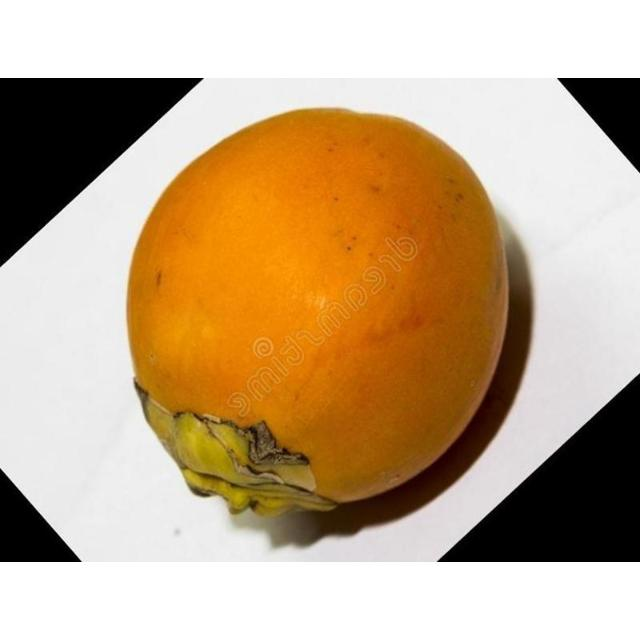good: (125, 107, 514, 521)
